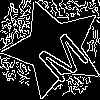M: (29, 24, 92, 85)
